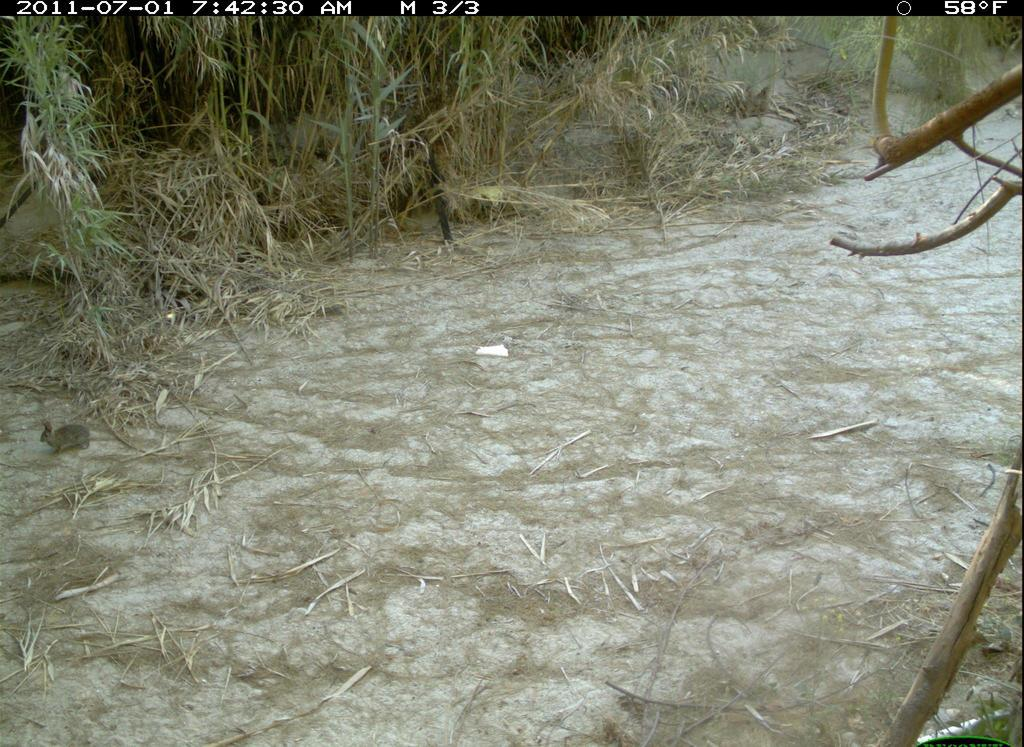rabbit: (34, 418, 97, 459)
